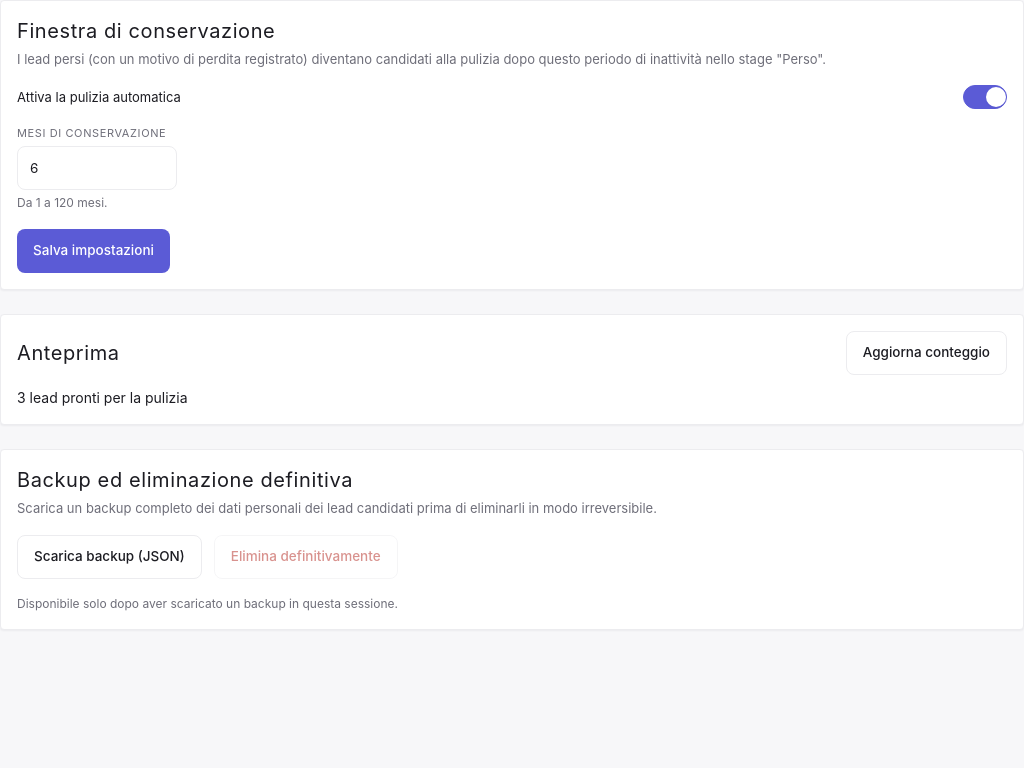
Test: DataRetentionPanel › opens the confirm dialog with focus on Annulla (not the destructive action) and returns focus on cancel
Click the button "Scarica backup (JSON)" at (109, 557), box [17,535,202,579]
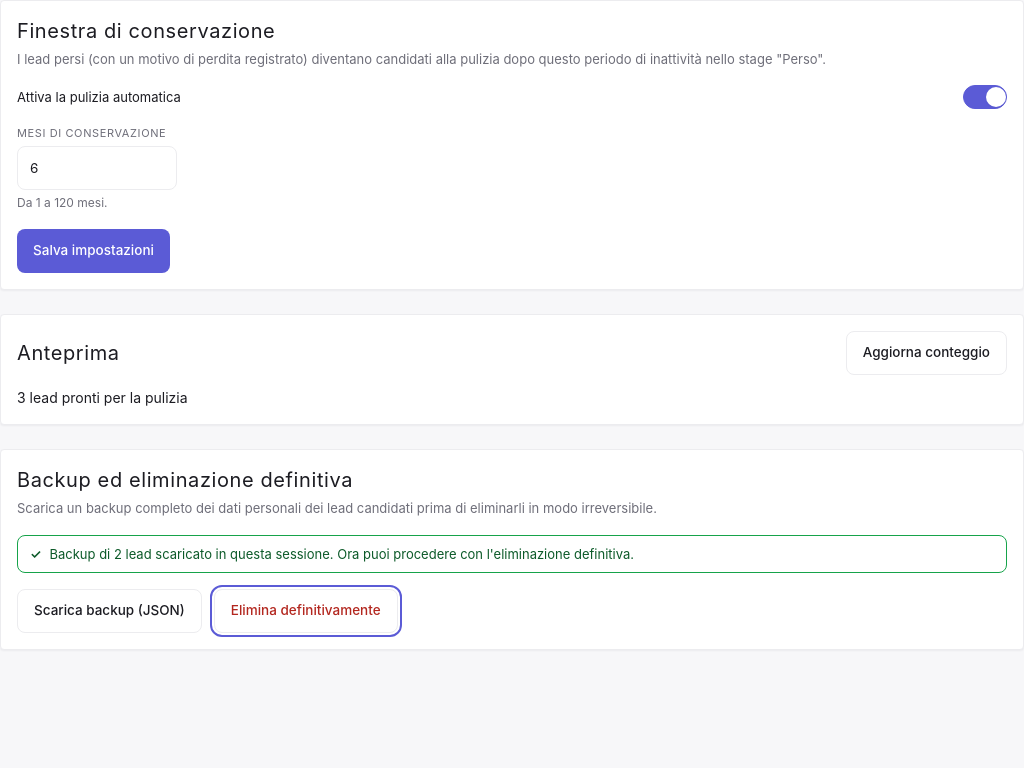
Click the button "Elimina definitivamente" at (306, 611), box [214,589,398,633]
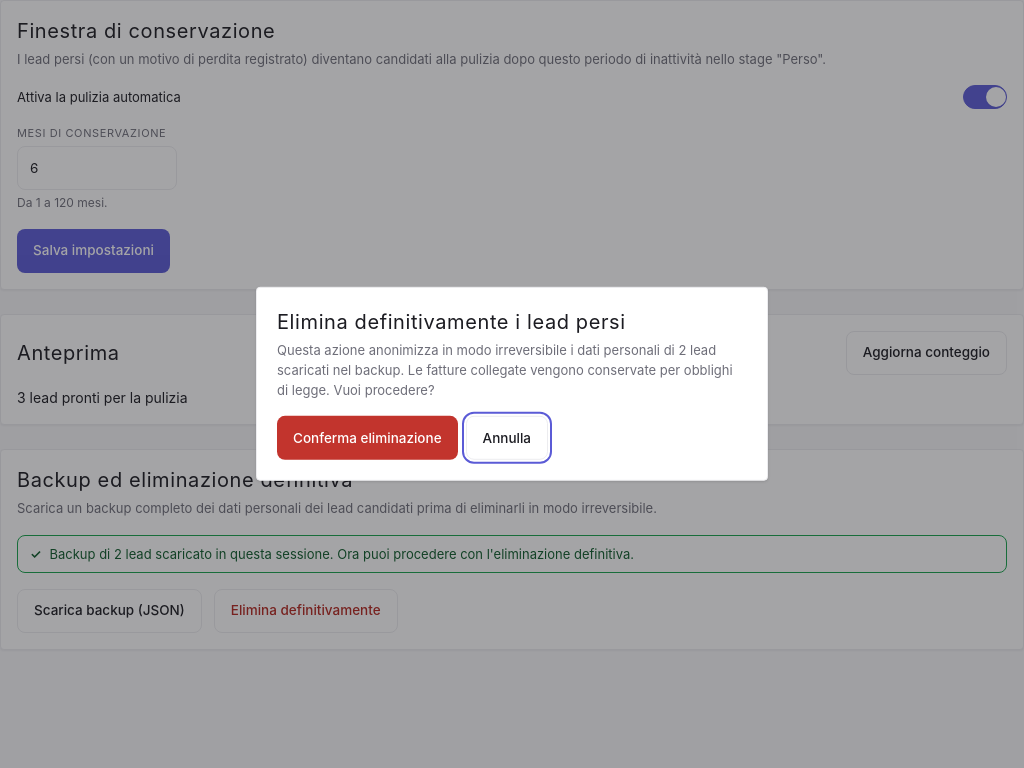
Click the button "Annulla" at (507, 438), box [466,416,548,460]
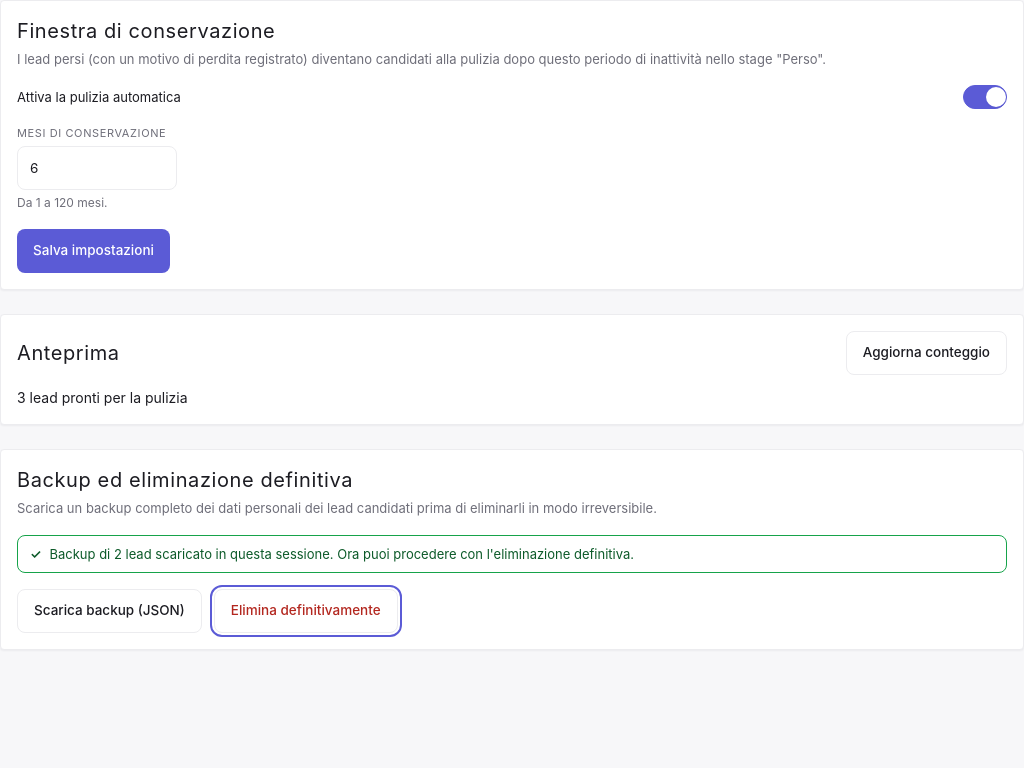
Now the dialog is gone
